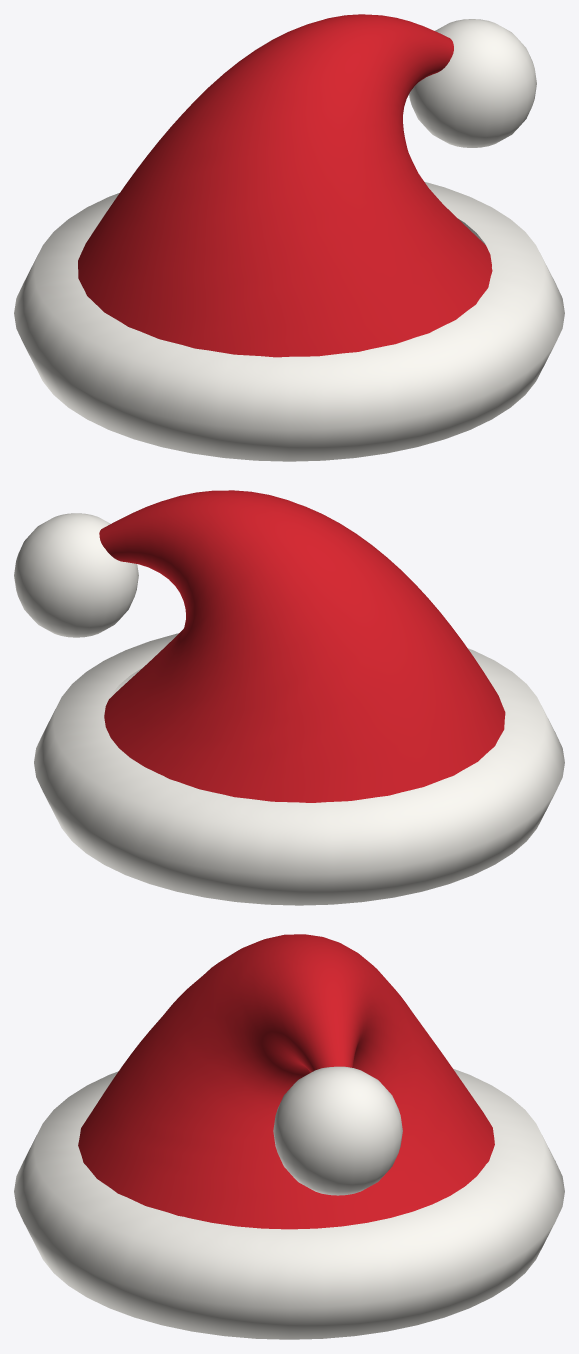
The model's file is gorro_navidad.glb.
The picture shows the model from 3 angles, top to bottom: view 1: azimuth 30°, elevation 25°; view 2: azimuth 150°, elevation 25°; view 3: azimuth 270°, elevation 25°; orthographic projection. The views are drawn at different scales.
Visible parts, largest first — view 1: navidad; view 2: navidad; view 3: navidad.
Part boxes in pixels (x1=…): navidad: x1=14, y1=14, x2=564, y2=461; navidad: x1=14, y1=490, x2=564, y2=905; navidad: x1=14, y1=934, x2=564, y2=1339.
Bounding box in the file's own units: 1.43 × 0.8595 × 1.36.
